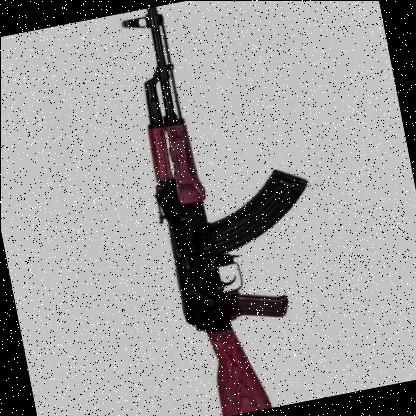rifle: (82, 0, 355, 416)
